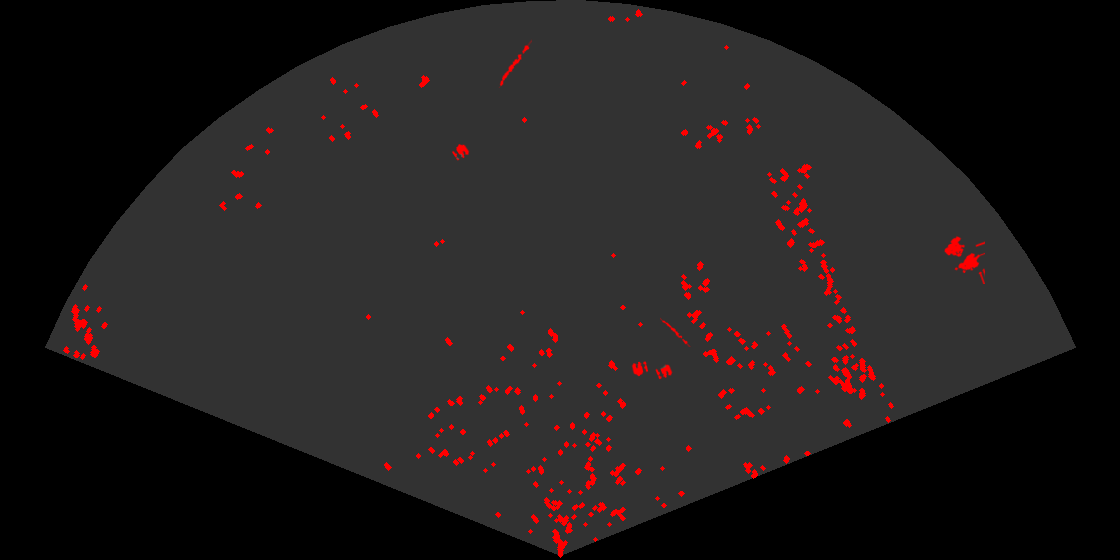ball: (450, 142, 471, 162), (654, 363, 674, 381), (630, 360, 650, 378)
cage: (943, 234, 985, 284)
chain: (497, 38, 532, 88), (660, 316, 692, 347)
